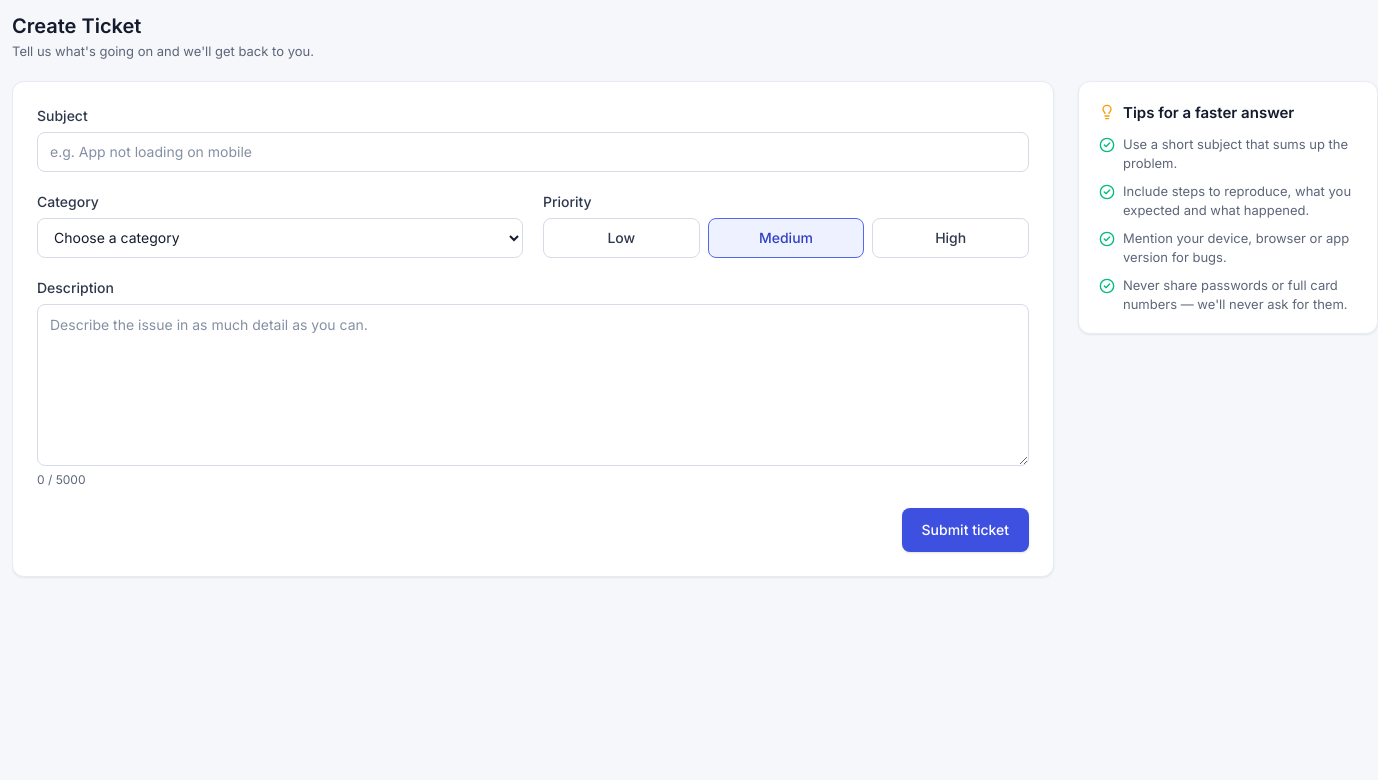
Scenario: CreateTicketPage › shows a clear message when the server cannot be reached, and keeps what was typed
The image size is (1378, 780).
In the field labelled "Subject": coordinates (533, 152) left=37, top=132, right=1029, bottom=172, type "Website not loading"
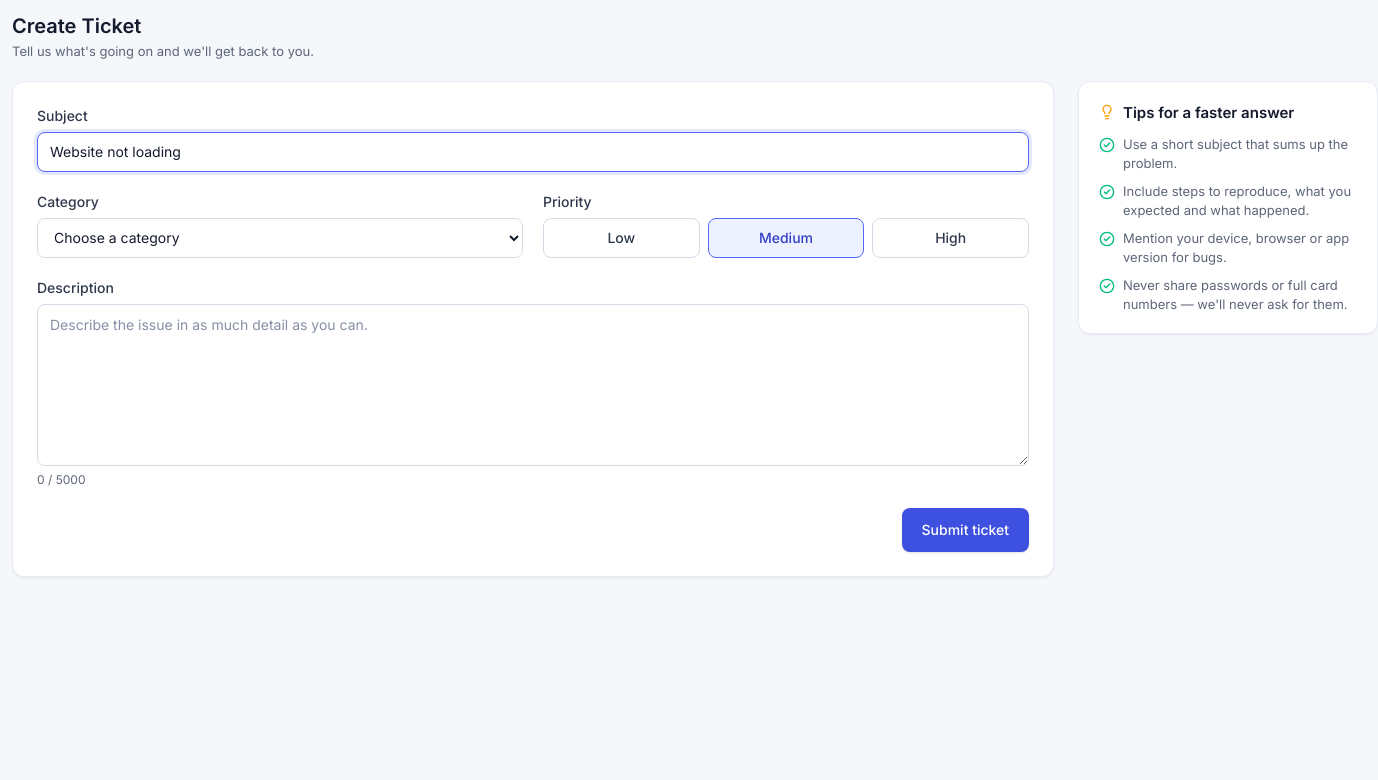
Select "Bug" in the dropdown labelled "Category": coordinates (280, 238) left=37, top=218, right=523, bottom=258
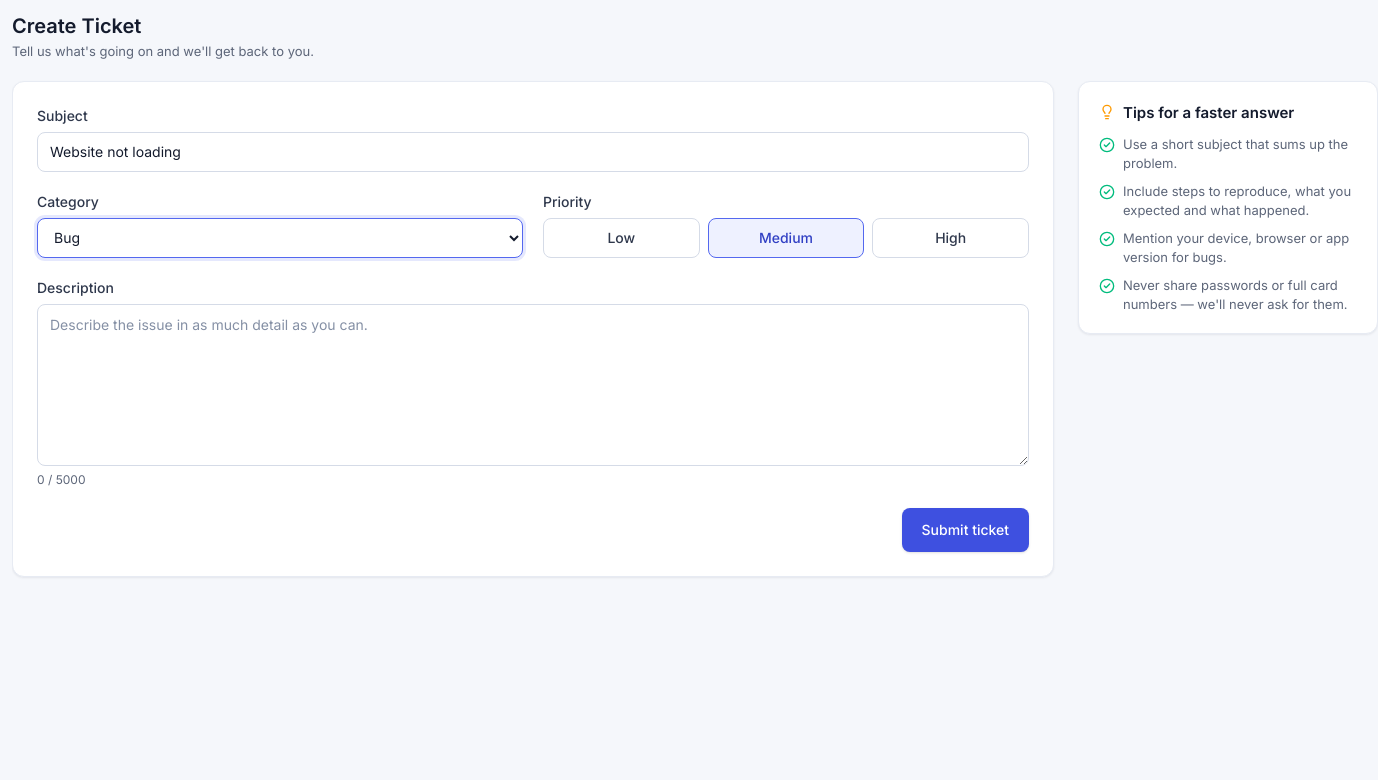
In the text box labelled "Description": coordinates (533, 385) left=37, top=304, right=1029, bottom=466, type "The home page shows a blank screen."
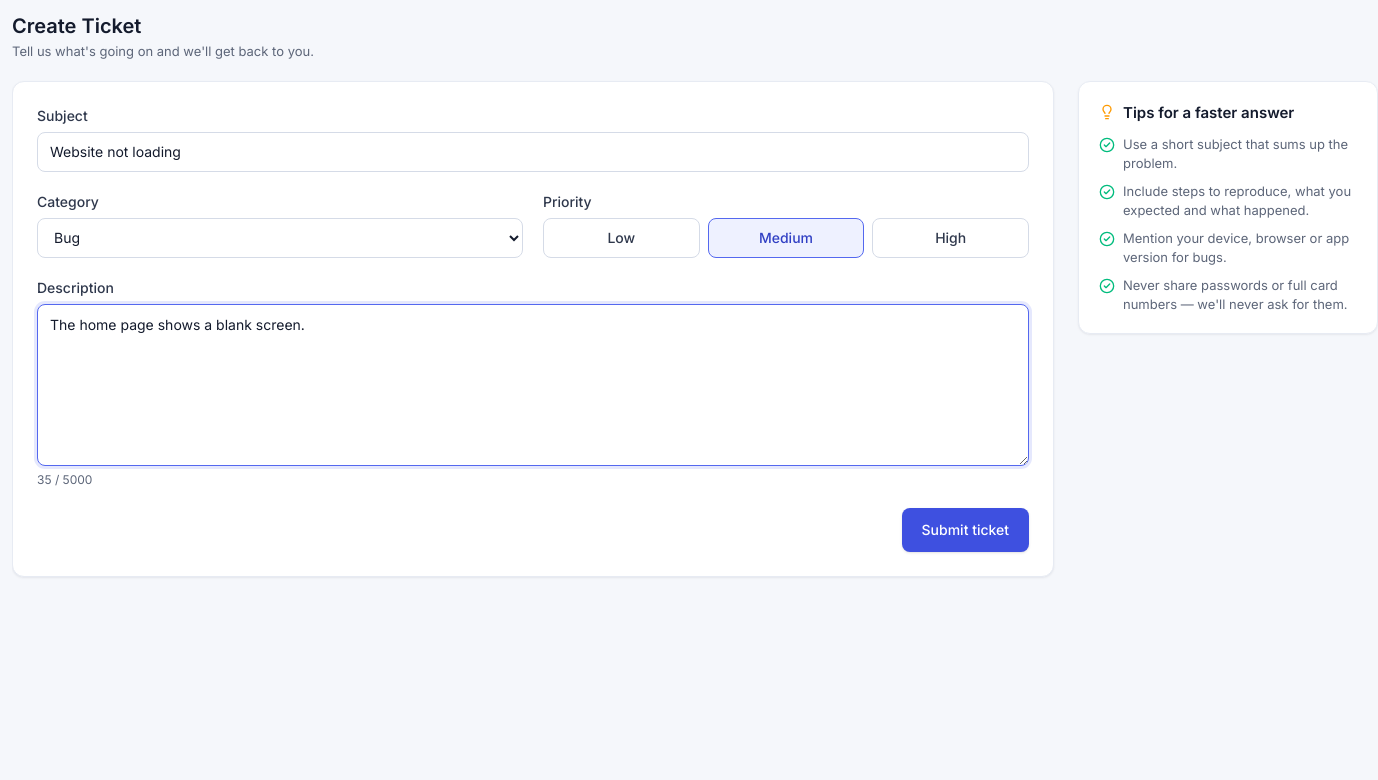
Click the button "Submit ticket": coordinates (965, 530) left=902, top=508, right=1029, bottom=552
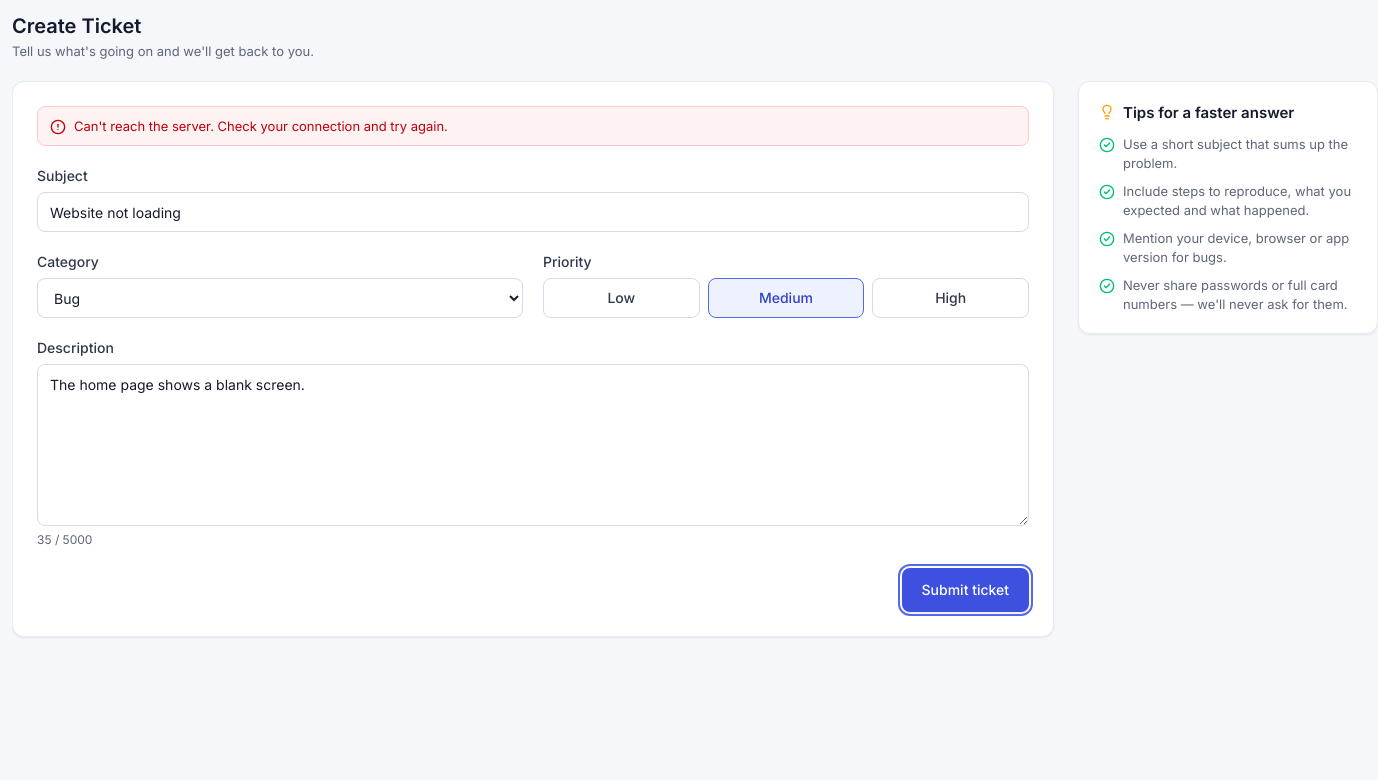
Expected: the button "Submit ticket" is enabled, left=902, top=568, right=1029, bottom=612
Expected: the message shows "Can't reach the server", left=74, top=118, right=448, bottom=134
